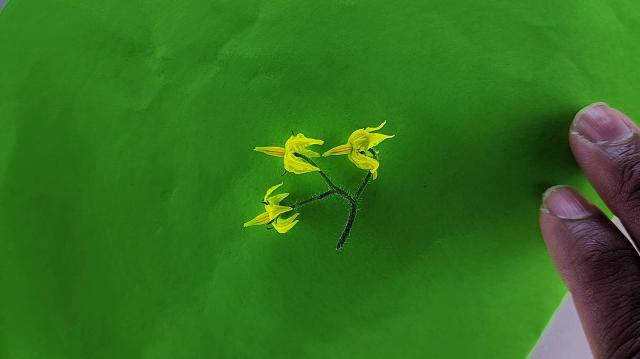Anthesis: (322, 120, 396, 180), (252, 130, 325, 176), (242, 181, 299, 234)
